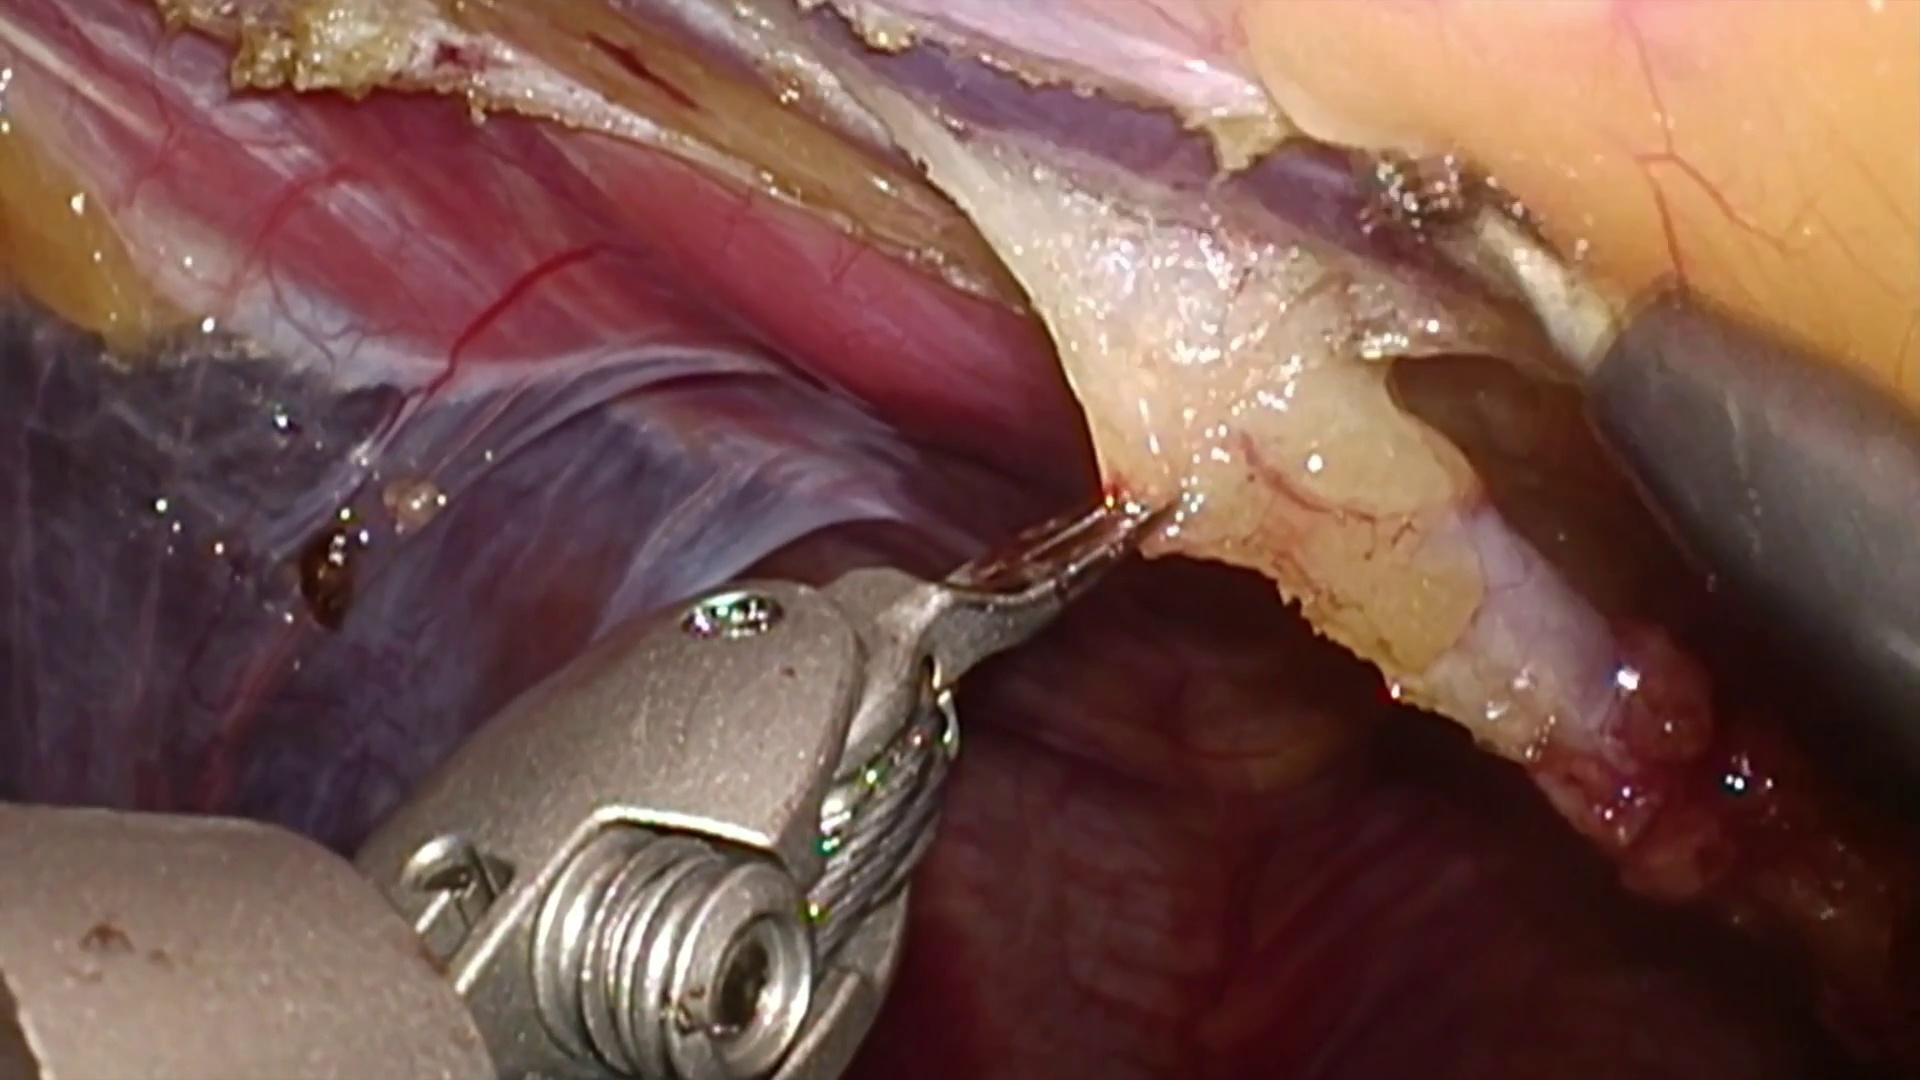Cautery_Spatula: (1364, 161, 1920, 799)
Debakey: (804, 448, 1191, 725)
